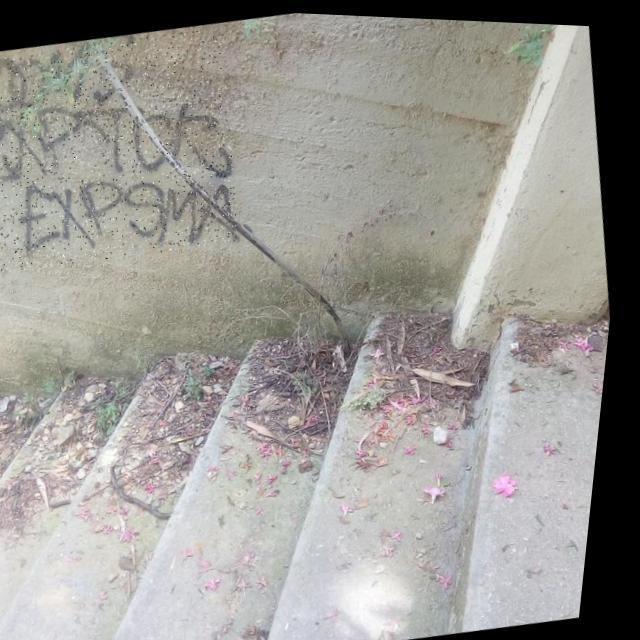-: (0, 17, 260, 287)
